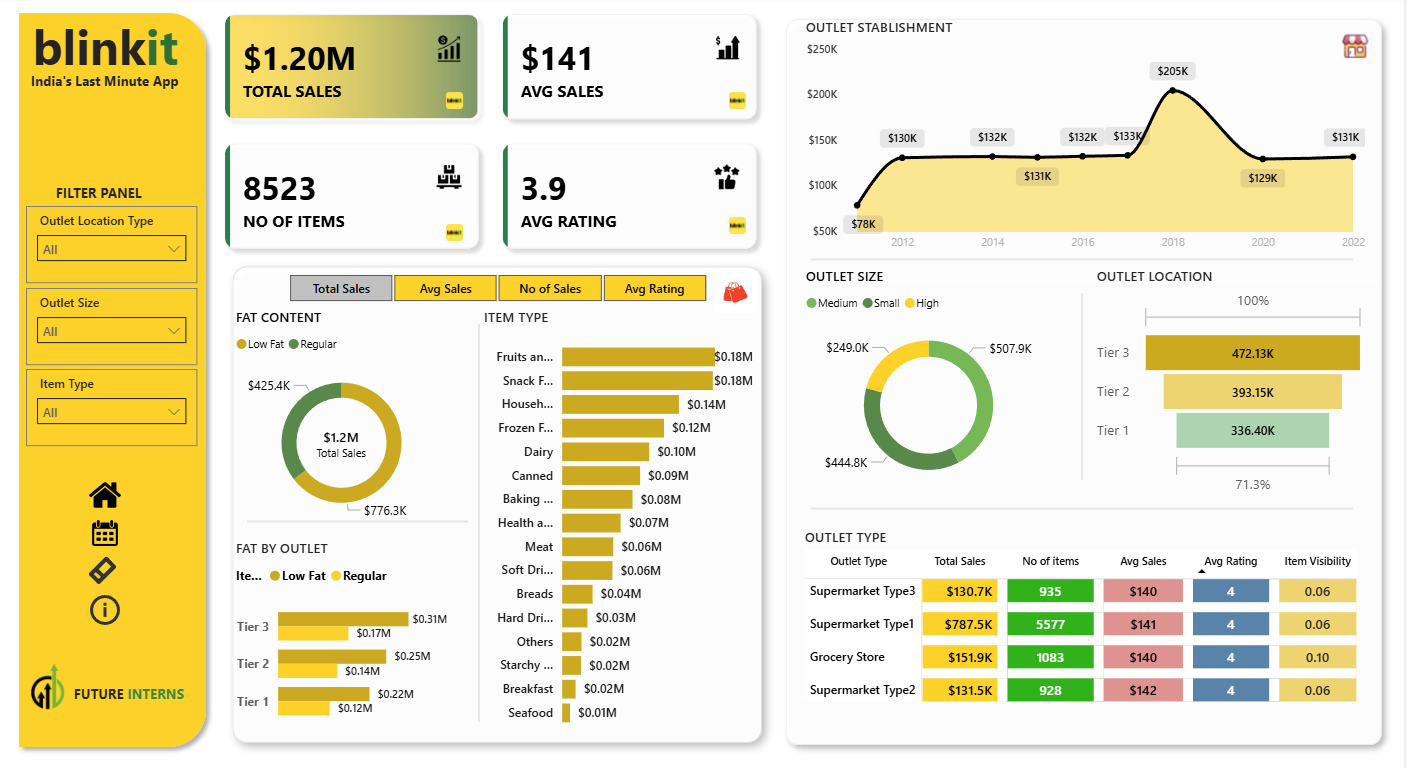

This screenshot's page, from the dashboard's own definition file:
{"tool":"powerbi","page":{"name":"Page 1","canvas":[1400,800],"ordinal":0},"visuals":[{"type":"shape","box":[10,7,204.5,750.1],"z":0},{"type":"textbox","box":[261.7,666,189.4,84],"z":1000},{"type":"textbox","box":[9.6,10.6,190.4,77.7],"z":2000},{"type":"textbox","box":[9.6,70.2,189.4,26.6],"z":3000},{"type":"cardVisual","fields":{"Data":["BlinkIT Grocery Data.Total Sales","BlinkIT Grocery Data.Avg Sales","BlinkIT Grocery Data.No of Sales","BlinkIT Grocery Data.Avg Rating"]},"box":[207.9,0,565.2,268.2],"z":4000},{"type":"shape","box":[218.1,255.2,555,502.1],"z":5000},{"type":"donutChart","title":"FAT CONTENT","fields":{"Y":["BlinkIT Grocery Data.Total Sales"],"Category":["BlinkIT Grocery Data.Item Fat Content"]},"box":[230.4,310.2,220.4,224.4],"z":6000},{"type":"slicer","fields":{"Values":["Metrixs.Metrixs"]},"box":[263.3,270.3,464.8,39.9],"z":7000},{"type":"cardVisual","fields":{"Data":["BlinkIT Grocery Data.Total Sales"]},"box":[276.3,410,128.7,71.8],"z":8000},{"type":"clusteredBarChart","title":"FAT BY OUTLET","fields":{"Y":["BlinkIT Grocery Data.Total Sales"],"Category":["BlinkIT Grocery Data.Outlet Location Type"],"Series":["BlinkIT Grocery Data.Item Fat Content"]},"box":[230.4,540.6,220.4,197.5],"z":9000},{"type":"shape","box":[245.9,516.9,220.9,13],"z":10000},{"type":"shape","box":[273.3,326.2,409,397],"z":11000},{"type":"barChart","title":"ITEM TYPE","fields":{"Y":["BlinkIT Grocery Data.Total Sales"],"Category":["BlinkIT Grocery Data.Item Type"]},"box":[477.8,310.2,278.3,427.9],"z":12000},{"type":"shape","box":[809,338.2,540.6,16],"z":13000},{"type":"shape","box":[799,270.3,578.6,35.9],"z":14000},{"type":"shape","box":[773.1,11.1,616.2,746.2],"z":15000},{"type":"lineChart","title":"OUTLET STABLISHMENT","fields":{"Category":["BlinkIT Grocery Data.Outlet Establishment Year"],"Y":["BlinkIT Grocery Data.Total Sales"]},"box":[799,20.9,567.6,241.4],"z":16000},{"type":"donutChart","title":"OUTLET SIZE","fields":{"Y":["BlinkIT Grocery Data.Total Sales"],"Category":["BlinkIT Grocery Data.Outlet Size"]},"box":[799,269.3,254.4,231.4],"z":17000},{"type":"shape","box":[874.8,295.3,409,186.5],"z":18000},{"type":"funnel","title":"OUTLET LOCATION","fields":{"Y":["Sum(BlinkIT Grocery Data.Sales)"],"Category":["BlinkIT Grocery Data.Outlet Location Type"]},"box":[1089.3,269.3,277.3,231.4],"z":19000},{"type":"shape","box":[809,503.7,540.6,13],"z":20000},{"type":"shape","box":[809,255.4,540.6,13],"z":21000},{"type":"pivotTable","title":"OUTLET TYPE","fields":{"Rows":["BlinkIT Grocery Data.Outlet Type"],"Values":["BlinkIT Grocery Data.Total Sales","BlinkIT Grocery Data.No of Sales","BlinkIT Grocery Data.Avg Sales","BlinkIT Grocery Data.Avg Rating","Avg(BlinkIT Grocery Data.Item Visibility)"]},"box":[798,529.7,570.6,203.5],"z":22000},{"type":"slicer","fields":{"Values":["BlinkIT Grocery Data.Outlet Location Type"]},"box":[25.9,208.5,170.6,76.8],"z":23000},{"type":"slicer","fields":{"Values":["BlinkIT Grocery Data.Outlet Size"]},"box":[25.9,290.3,170.6,76.8],"z":24000},{"type":"slicer","fields":{"Values":["BlinkIT Grocery Data.Item Type"]},"box":[25.9,371.1,170.6,76.8],"z":25000},{"type":"textbox","box":[68.8,181.5,107.7,26.9],"z":26000},{"type":"actionButton","box":[84.8,591.5,57.9,39.9],"z":27000},{"type":"actionButton","box":[84.8,554.6,37.9,34.9],"z":28000},{"type":"actionButton","box":[440.9,83.8,99.8,39.9],"z":29000},{"type":"actionButton","box":[723.2,83.8,99.8,39.9],"z":30000},{"type":"actionButton","box":[723.2,208.5,99.8,39.9],"z":31000},{"type":"actionButton","box":[440.9,215.5,99.8,39.9],"z":32000},{"type":"actionButton","box":[1323.7,20.9,65.8,39.9],"z":33000},{"type":"actionButton","box":[84.8,476.8,99.8,39.9],"z":34000},{"type":"actionButton","box":[709.2,270.3,121.7,48.9],"z":35000},{"type":"actionButton","box":[84.8,514.7,99.8,39.9],"z":36000},{"type":"actionButton","box":[15,656.4,238.4,66.8],"z":37000},{"type":"textbox","box":[68.8,681.3,161.6,41.9],"z":38000}]}

Visuals, with their boxes on the page's 1400x800 design canvas (x1, y1, x2, y2). These are canvas units, not pixel positions in the 1407x768 screenshot, which may show the page scaled, cropped or inside an application window:
shape: select_region(10, 7, 214, 757)
textbox: select_region(262, 666, 451, 750)
textbox: select_region(10, 11, 200, 88)
textbox: select_region(10, 70, 199, 97)
cardVisual - BlinkIT Grocery Data.Total Sales x BlinkIT Grocery Data.Avg Sales: select_region(208, 0, 773, 268)
shape: select_region(218, 255, 773, 757)
"FAT CONTENT" donutChart: select_region(230, 310, 451, 535)
slicer - Metrixs.Metrixs: select_region(263, 270, 728, 310)
cardVisual - BlinkIT Grocery Data.Total Sales: select_region(276, 410, 405, 482)
"FAT BY OUTLET" clusteredBarChart: select_region(230, 541, 451, 738)
shape: select_region(246, 517, 467, 530)
shape: select_region(273, 326, 682, 723)
"ITEM TYPE" barChart: select_region(478, 310, 756, 738)
shape: select_region(809, 338, 1350, 354)
shape: select_region(799, 270, 1378, 306)
shape: select_region(773, 11, 1389, 757)
"OUTLET STABLISHMENT" lineChart: select_region(799, 21, 1367, 262)
"OUTLET SIZE" donutChart: select_region(799, 269, 1053, 501)
shape: select_region(875, 295, 1284, 482)
"OUTLET LOCATION" funnel: select_region(1089, 269, 1367, 501)
shape: select_region(809, 504, 1350, 517)
shape: select_region(809, 255, 1350, 268)
"OUTLET TYPE" pivotTable: select_region(798, 530, 1369, 733)
slicer - BlinkIT Grocery Data.Outlet Location Type: select_region(26, 208, 196, 285)
slicer - BlinkIT Grocery Data.Outlet Size: select_region(26, 290, 196, 367)
slicer - BlinkIT Grocery Data.Item Type: select_region(26, 371, 196, 448)
textbox: select_region(69, 182, 176, 208)
actionButton: select_region(85, 592, 143, 631)
actionButton: select_region(85, 555, 123, 590)
actionButton: select_region(441, 84, 541, 124)
actionButton: select_region(723, 84, 823, 124)
actionButton: select_region(723, 208, 823, 248)
actionButton: select_region(441, 216, 541, 255)
actionButton: select_region(1324, 21, 1390, 61)
actionButton: select_region(85, 477, 185, 517)
actionButton: select_region(709, 270, 831, 319)
actionButton: select_region(85, 515, 185, 555)
actionButton: select_region(15, 656, 253, 723)
textbox: select_region(69, 681, 230, 723)
